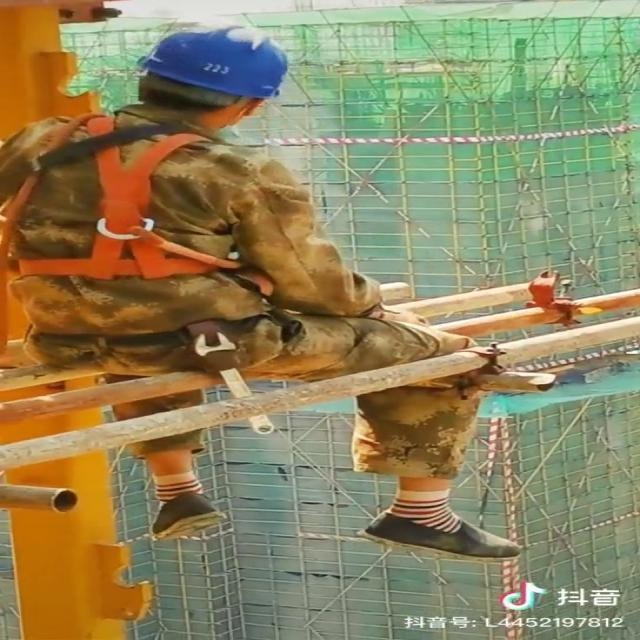Arnes_seguridad: (3, 107, 279, 297)
